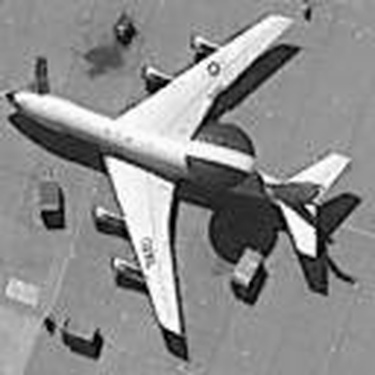airplane: (1, 8, 362, 354)
